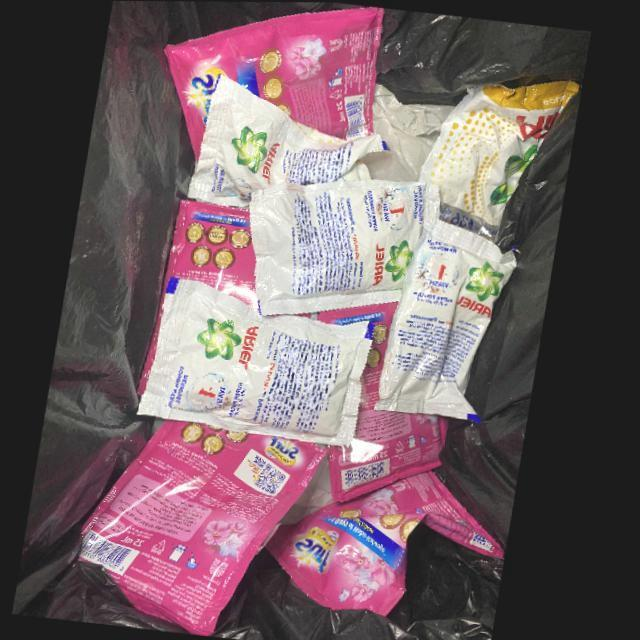plastic_sachet: (85, 417, 333, 635), (142, 276, 376, 444), (272, 470, 511, 615), (165, 4, 383, 153), (379, 218, 519, 421), (320, 299, 453, 500), (189, 74, 390, 206), (424, 78, 580, 236), (251, 178, 426, 314), (142, 196, 261, 394)
